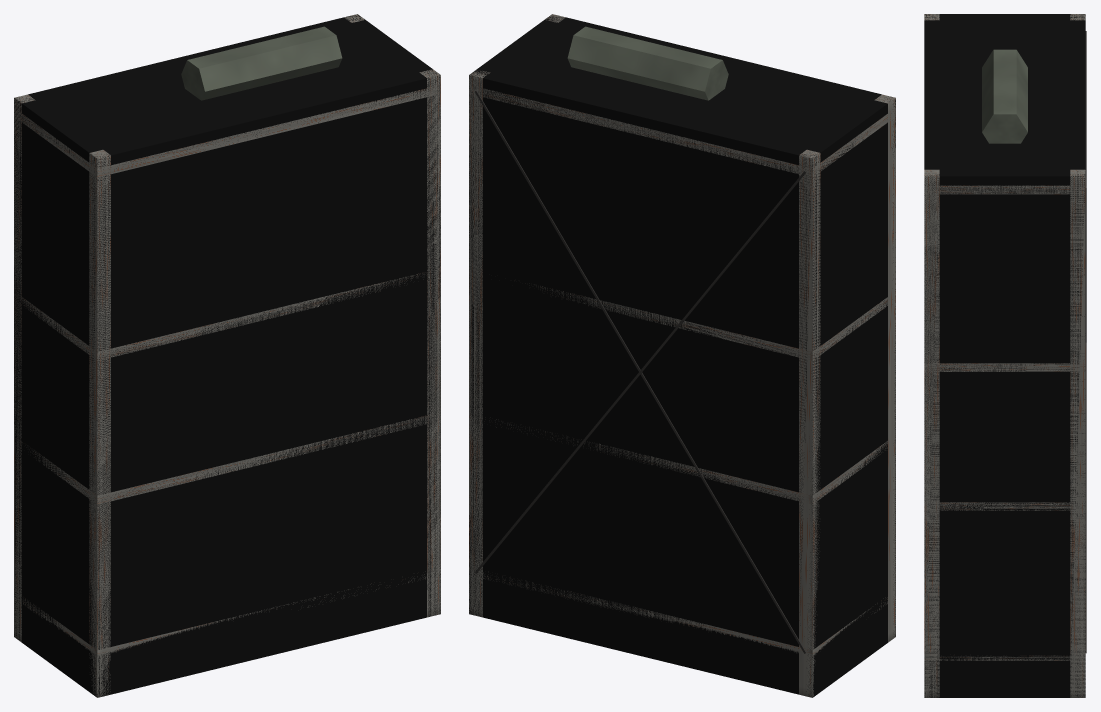
Rendered from shelf.fbx.
The picture shows the model from 3 angles, left to right: view 1: azimuth 30°, elevation 25°; view 2: azimuth 150°, elevation 25°; view 3: azimuth 270°, elevation 25°; orthographic projection. The views are drawn at different scales.
Parts seen in each view (by area): view 1: col_body, shelf; view 2: col_body, shelf; view 3: col_body, shelf.
Part boxes in pixels (bbox=[...]): col_body: bbox=[14, 14, 440, 697]; shelf: bbox=[14, 14, 440, 697]; col_body: bbox=[469, 14, 895, 697]; shelf: bbox=[469, 14, 895, 697]; col_body: bbox=[924, 14, 1085, 697]; shelf: bbox=[924, 14, 1086, 697].
Bounding box in the file's own units: 1 × 1.58 × 0.4225.
Materials: 1 (1 with a texture image).
